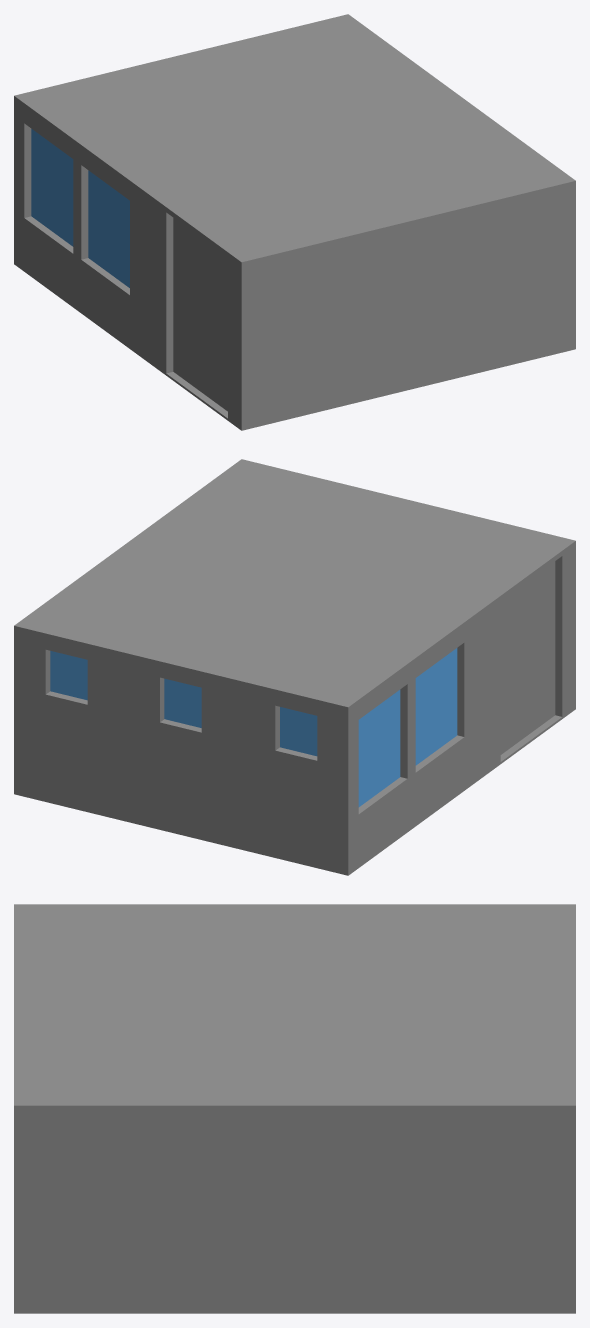
The picture shows the model from 3 angles, top to bottom: view 1: azimuth 30°, elevation 25°; view 2: azimuth 150°, elevation 25°; view 3: azimuth 270°, elevation 25°; orthographic projection. The views are drawn at different scales.
Parts seen in each view (by area): view 1: Base1_LOD1_1; view 2: Base1_LOD1_1; view 3: Base1_LOD1_1.
Part boxes in pixels (x1,y1,x2,y2): Base1_LOD1_1: [14, 14, 575, 430]; Base1_LOD1_1: [14, 459, 575, 875]; Base1_LOD1_1: [14, 904, 575, 1313].
Size of the model in its own units: 246 by 119 by 290.
